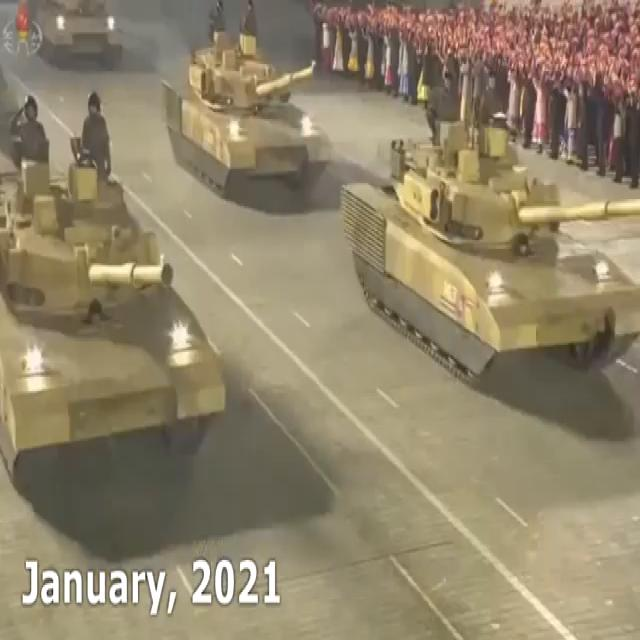north tank: (343, 48, 640, 428), (1, 135, 229, 523), (152, 2, 342, 210)
